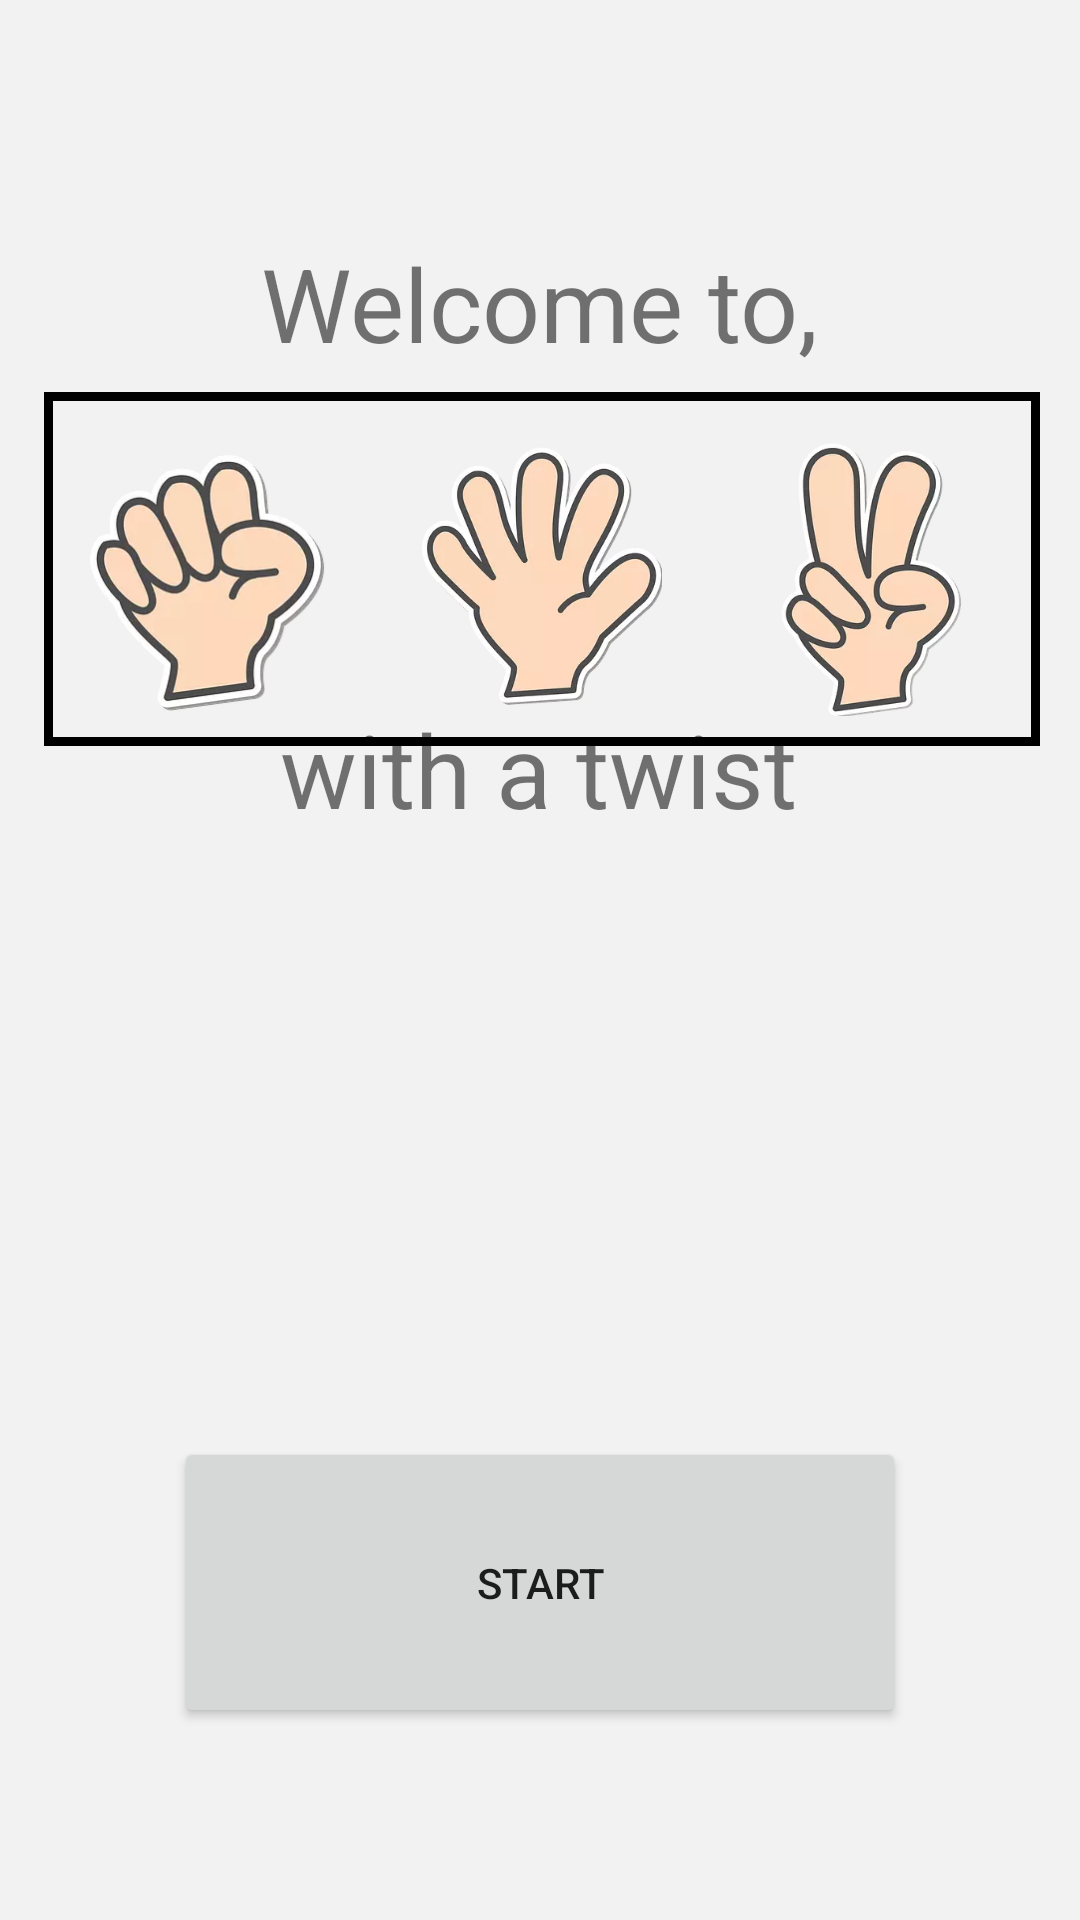

Icons on this 1080px x 1920px Android screen, each with the point to tap as point (x, y):
paper: point (544, 578)
rock: point (210, 586)
scissors: point (873, 582)
